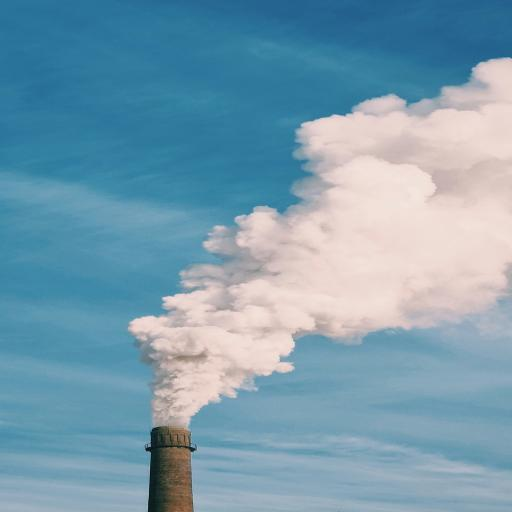smoke: (68, 54, 512, 418)
